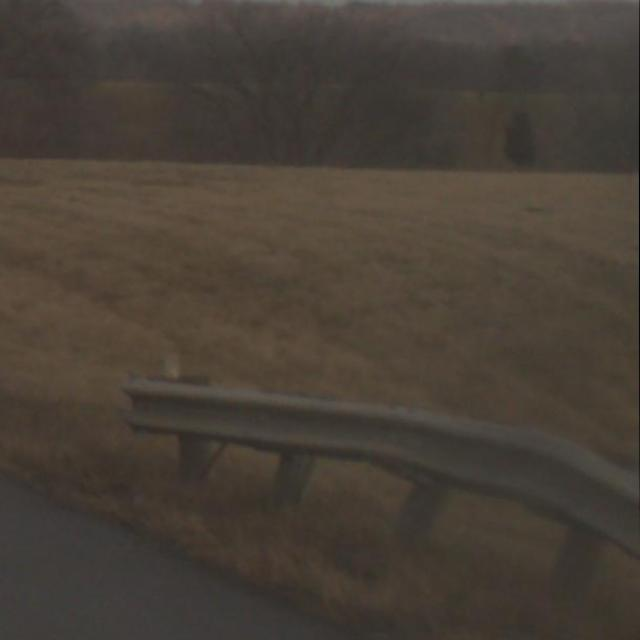Guard rail: (117, 366, 640, 608)
